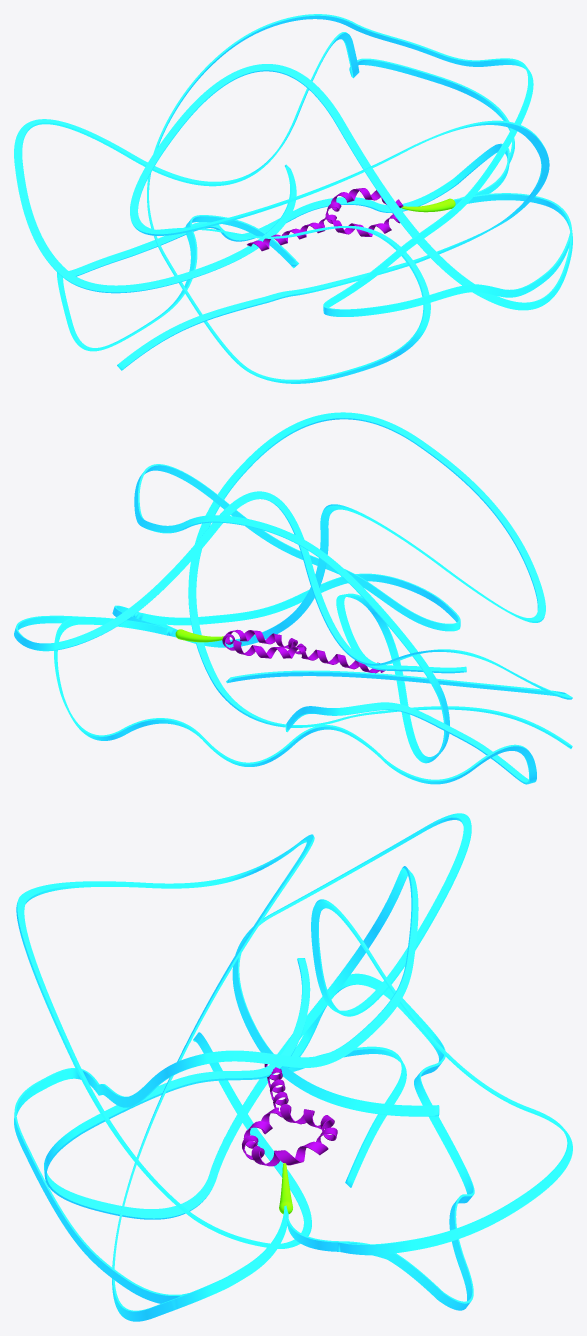
The model's file is TestC.gltf.
The picture shows the model from 3 angles, top to bottom: view 1: azimuth 30°, elevation 25°; view 2: azimuth 150°, elevation 25°; view 3: azimuth 270°, elevation 25°; orthographic projection. The views are drawn at different scales.
Parts seen in each view (by area): view 1: Carrier_Geo, Large_Orange; view 2: Carrier_Geo, Large_Orange; view 3: Carrier_Geo, Large_Orange.
Part boxes in pixels (x1,y1,x2,y2): Carrier_Geo: (14,14,572,383); Large_Orange: (247,188,403,251); Carrier_Geo: (14,412,572,784); Large_Orange: (222,629,385,673); Carrier_Geo: (14,813,572,1321); Large_Orange: (242,1064,337,1166).
Size of the model in its own units: 197 by 106 by 140.
